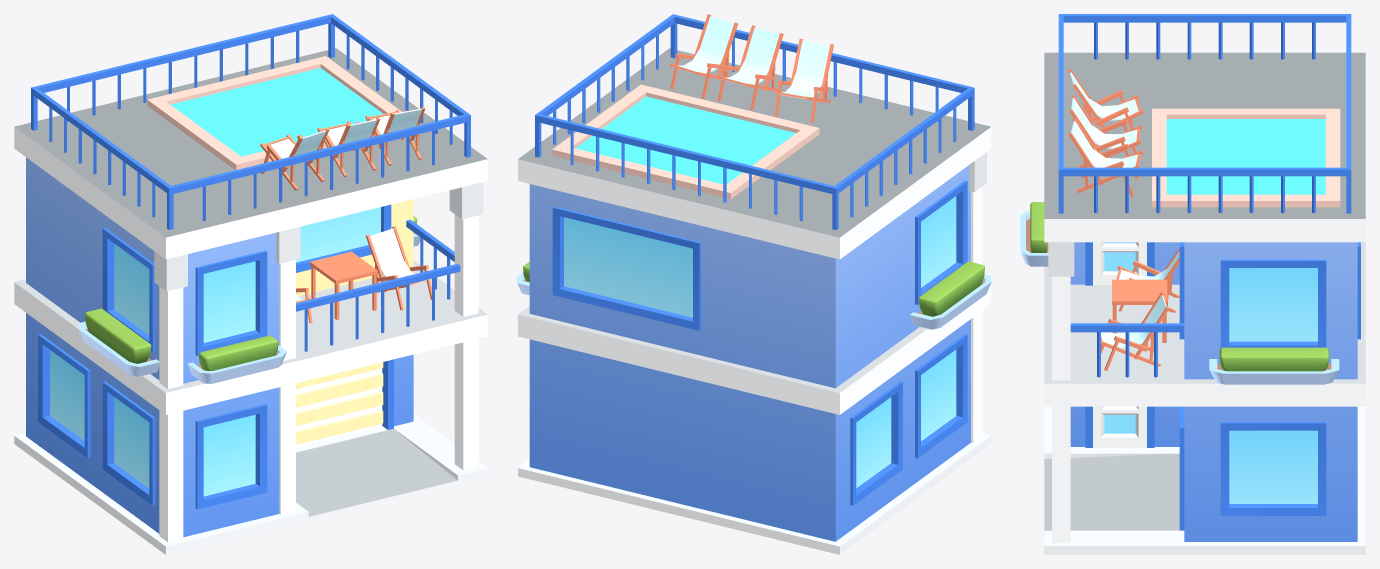
Rendered from city2-building-living-12.glb.
The picture shows the model from 3 angles, left to right: view 1: azimuth 30°, elevation 25°; view 2: azimuth 150°, elevation 25°; view 3: azimuth 270°, elevation 25°; orthographic projection. The views are drawn at different scales.
Parts seen in each view (by area): view 1: Building_Living_12; view 2: Building_Living_12; view 3: Building_Living_12.
Part boxes in pixels (box(x1,y1,x2,y2)): Building_Living_12: box(14, 14, 487, 554); Building_Living_12: box(516, 14, 991, 554); Building_Living_12: box(1020, 14, 1365, 554).
Size of the model in its own units: 9.02 by 8.89 by 7.04.
Materials: 1 (1 with a texture image).
